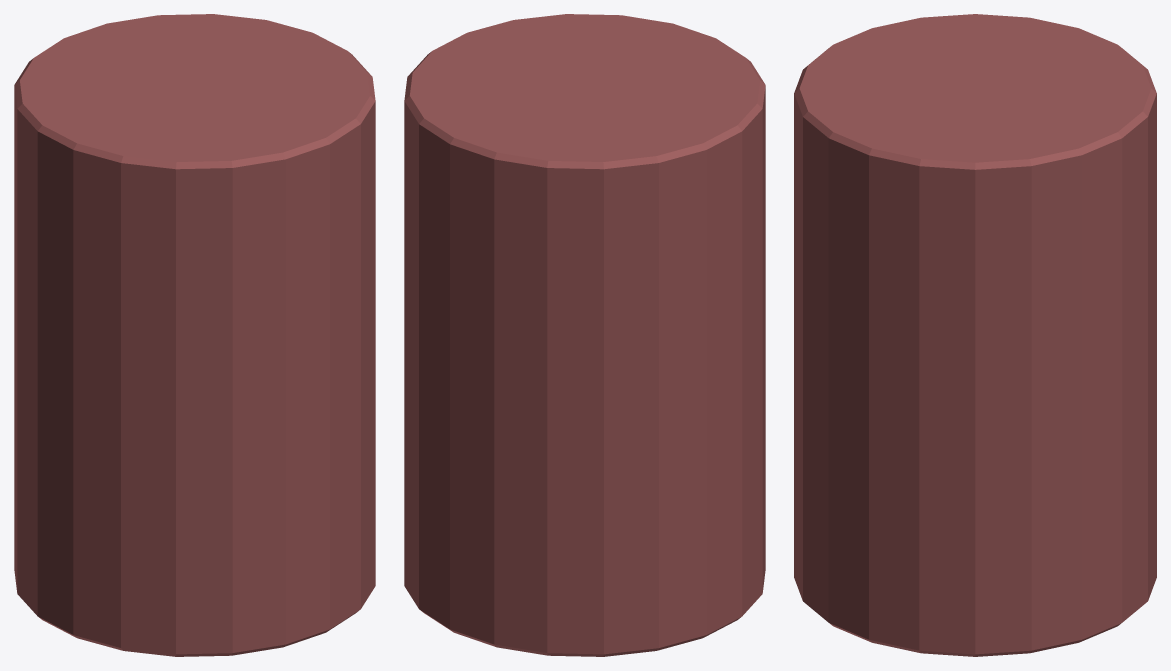
Rendered from colon2_center.fbx.
The picture shows the model from 3 angles, left to right: view 1: azimuth 30°, elevation 25°; view 2: azimuth 150°, elevation 25°; view 3: azimuth 270°, elevation 25°; orthographic projection.
Visible parts, largest first — view 1: colon2_center; view 2: colon2_center; view 3: colon2_center.
Part boxes in pixels (x1,y1,x2,y2): colon2_center: [14, 14, 375, 656]; colon2_center: [404, 14, 765, 656]; colon2_center: [794, 14, 1156, 656].
Size of the model in its own units: 0.6652 by 1 by 0.6652.
